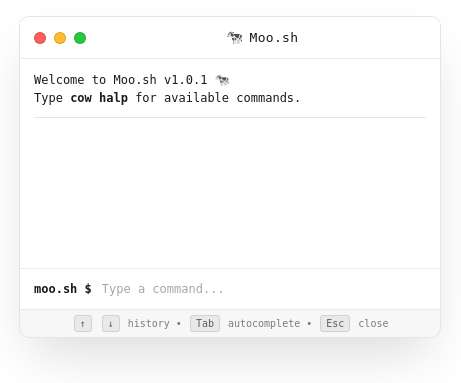
Test case: Cownsole › tab completion › autocompletes known commands
In the field with placeholder "Type a command...": [263, 289] box left=100, top=279, right=426, bottom=299, type "cl"
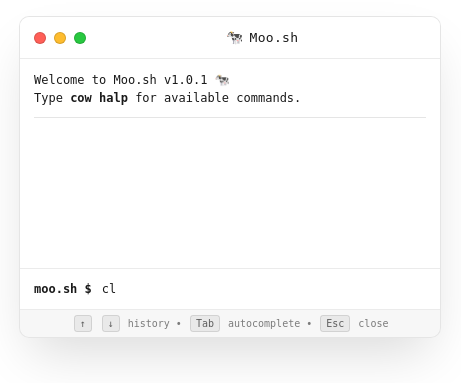
Press Tab in the field with placeholder "Type a command...", box left=100, top=279, right=426, bottom=299
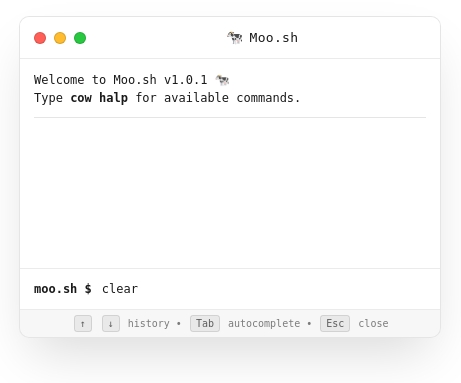
Check: the field with placeholder "Type a command..." holds "clear ", box left=100, top=279, right=426, bottom=299
